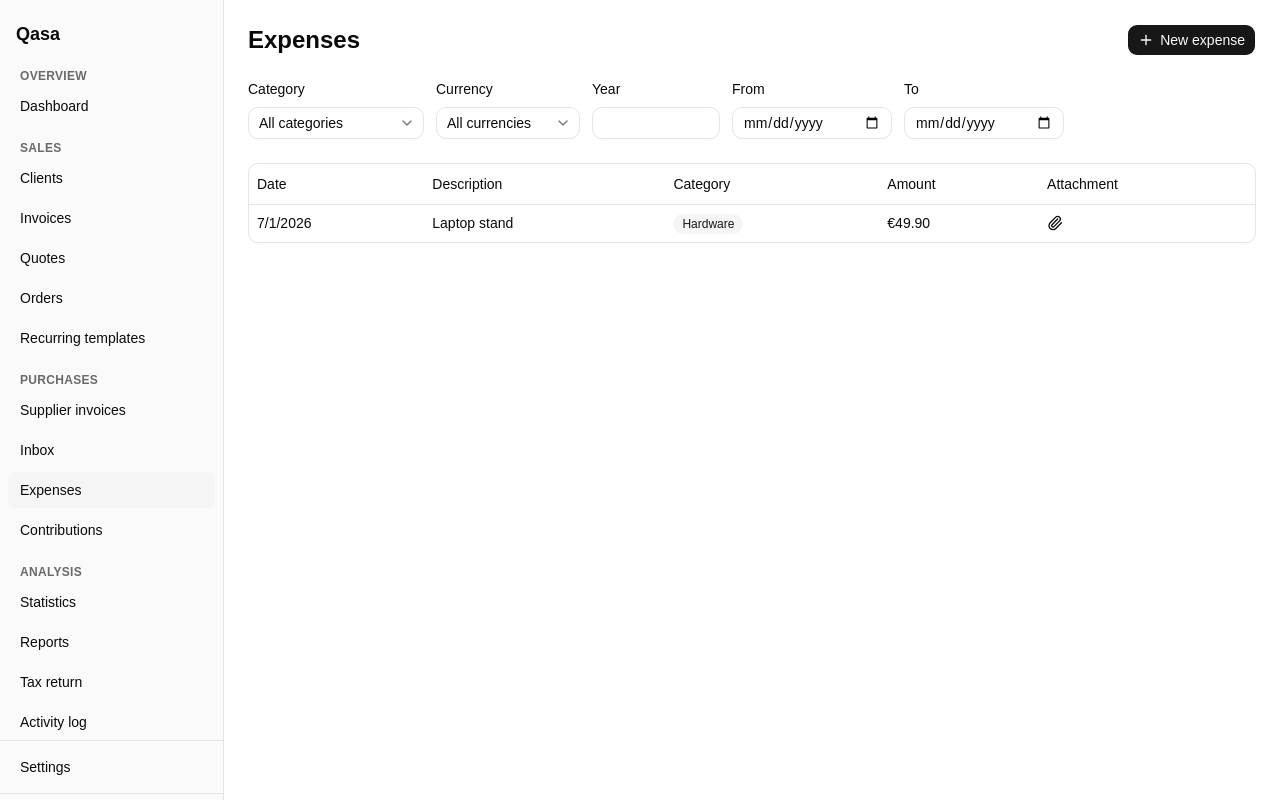
Scenario: expense attachment › shows the existing attachment and confirms before replacing it
The width and height of the screenshot is (1280, 800).
Click the button "Laptop stand" at point(473, 223), box [432, 213, 513, 233]
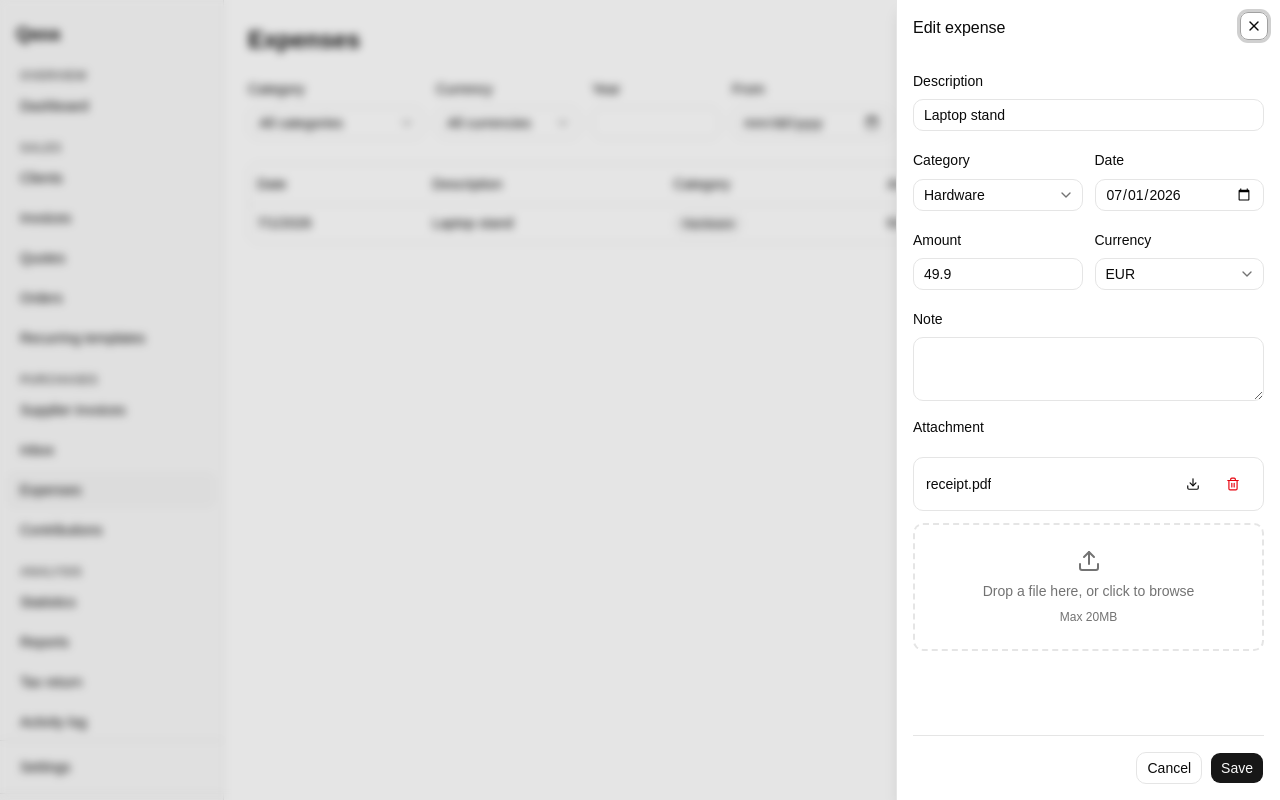
Expected: the dialog is shown, [896, 0, 1279, 799]
Expected: the text "receipt.pdf" is shown, [926, 474, 991, 494]
